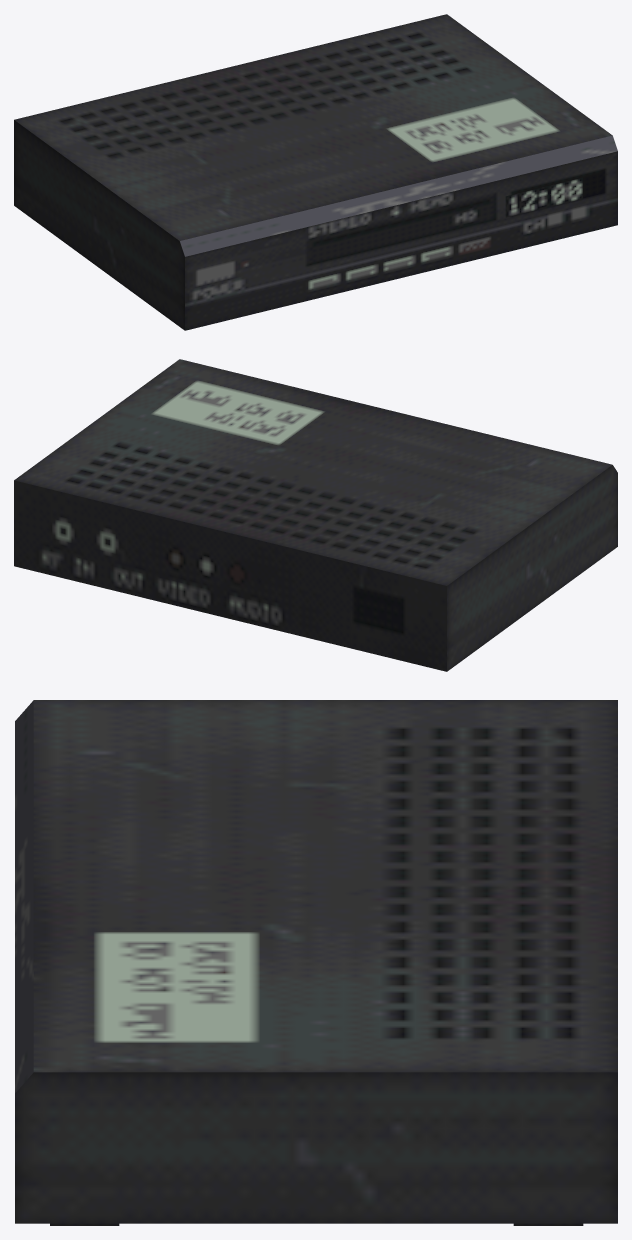
File: vcr_player.obj
The picture shows the model from 3 angles, top to bottom: view 1: azimuth 30°, elevation 25°; view 2: azimuth 150°, elevation 25°; view 3: azimuth 270°, elevation 25°; orthographic projection. The views are drawn at different scales.
Visible parts, largest first — view 1: vcr_player; view 2: vcr_player; view 3: vcr_player.
Boxes of the visible parts, bbox=[...] form: vcr_player: bbox=[14, 14, 617, 330]; vcr_player: bbox=[14, 359, 617, 671]; vcr_player: bbox=[15, 700, 617, 1225].
Bounding box in the file's own units: 0.38 × 0.08 × 0.2605.
2 materials, 2 textured.
